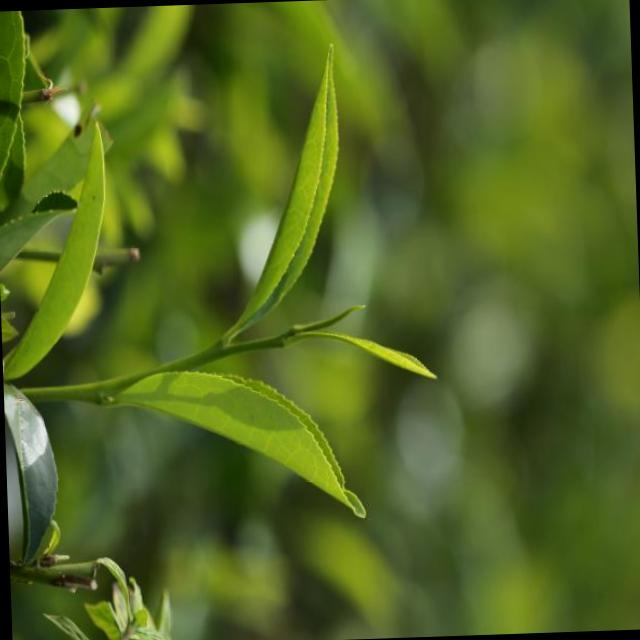Stem: (264, 336, 282, 348)
